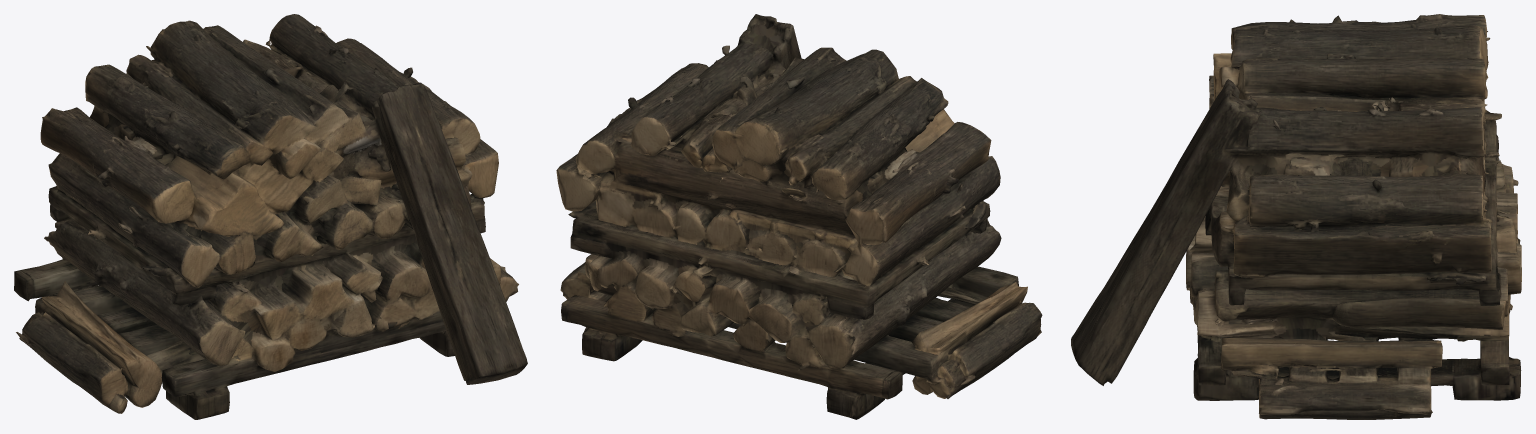
The model's file is prop_woodpile.glb.
The picture shows the model from 3 angles, left to right: view 1: azimuth 30°, elevation 25°; view 2: azimuth 150°, elevation 25°; view 3: azimuth 270°, elevation 25°; orthographic projection. The views are drawn at different scales.
Bounding box in the file's own units: 0.9984 × 0.6149 × 0.8722.
Materials: 1 (1 with a texture image).
